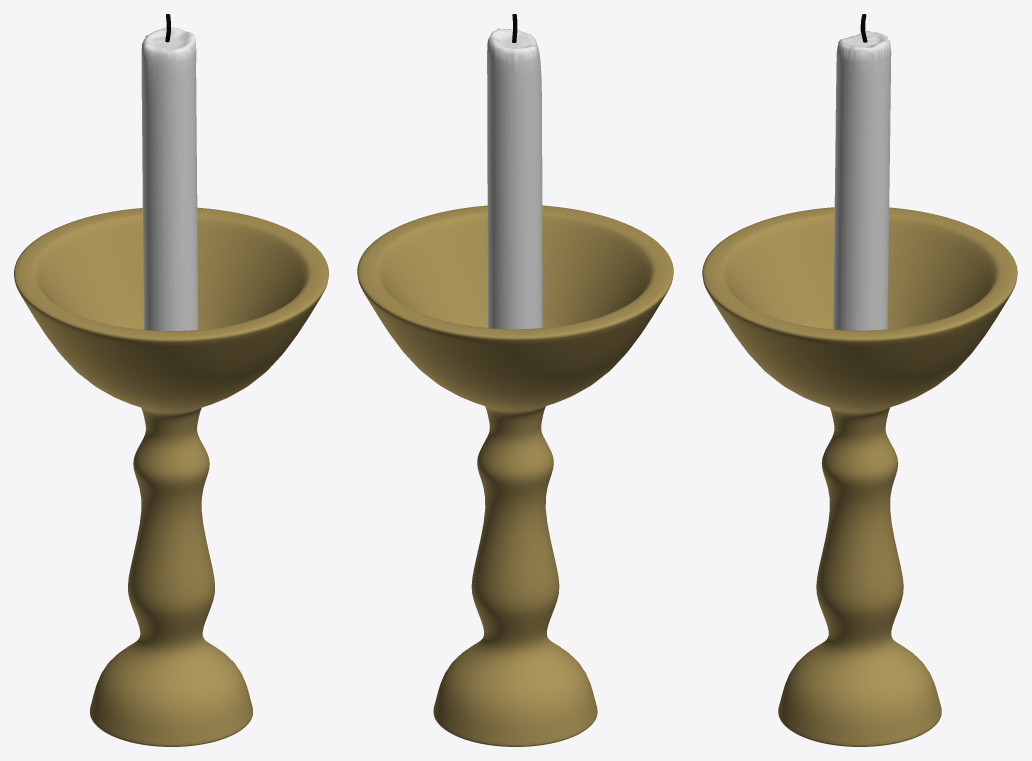
Rendered from candle.fbx.
3 renders of one model, left to right at view 1: azimuth 30°, elevation 25°; view 2: azimuth 150°, elevation 25°; view 3: azimuth 270°, elevation 25°, orthographic.
Parts seen in each view (by area): view 1: Candle Base, Candle; view 2: Candle Base, Candle; view 3: Candle Base, Candle.
Boxes of the visible parts, bbox=[...] form: Candle Base: bbox=[14, 207, 328, 746]; Candle: bbox=[141, 27, 198, 330]; Candle Base: bbox=[357, 205, 673, 746]; Candle: bbox=[487, 28, 542, 329]; Candle Base: bbox=[702, 207, 1017, 746]; Candle: bbox=[833, 30, 891, 330].
Bounding box in the file's own units: 25.71 × 62.77 × 25.71.
